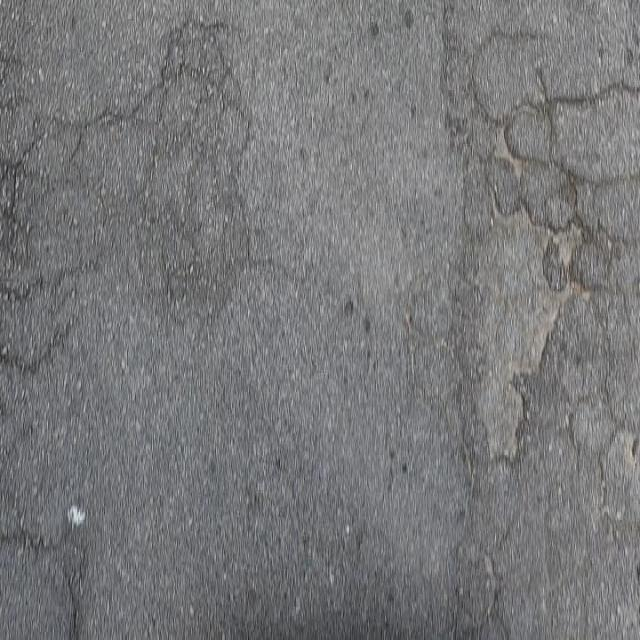cracks: (0, 17, 271, 365)
potholes: (415, 13, 623, 572)
